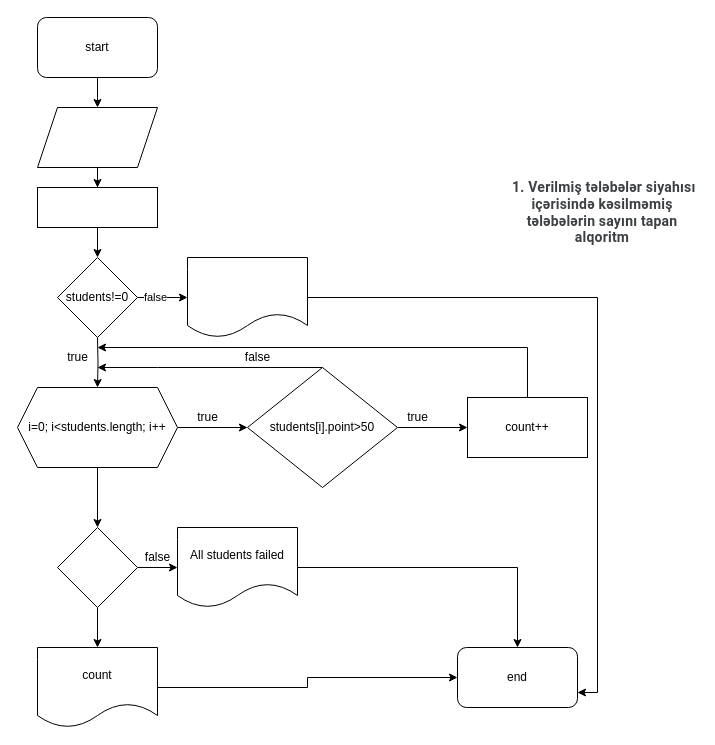
Some shapes in this 715 by 745 pixel diagram are drawn without their labels. The centre of each missing label's shape, as x and y in pixels:
count=0: the point at 97,207
count>0: the point at 97,567
students: the point at 97,137
There are no students: the point at 247,297
